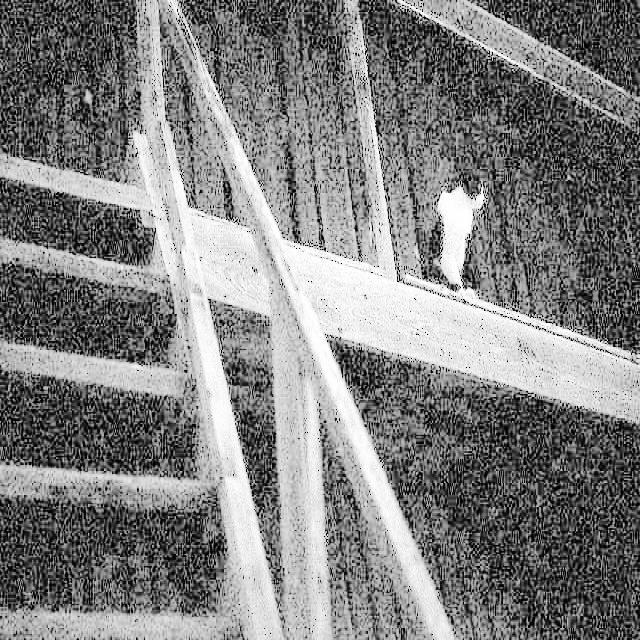Cat: (418, 158, 490, 298)
